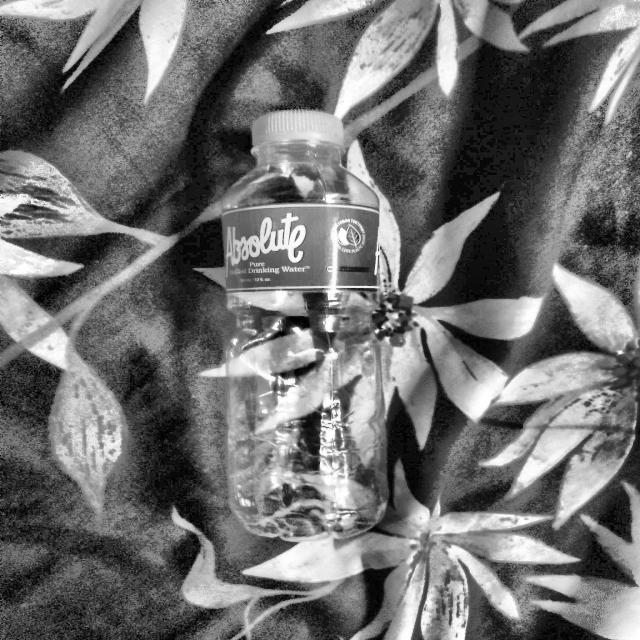Plastic-Bottle: (214, 109, 396, 544)
